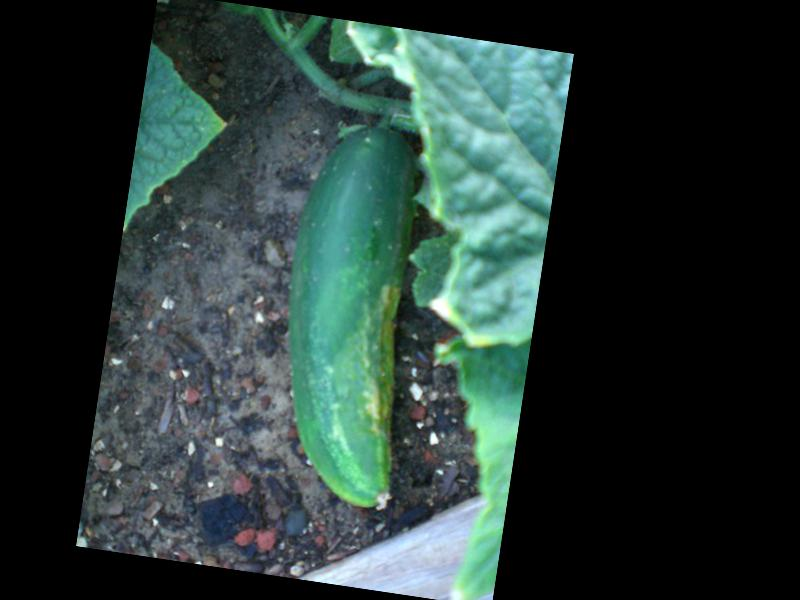Cucumber: (259, 118, 443, 511)
